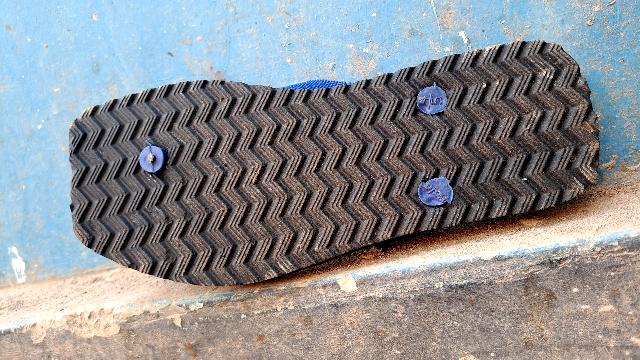sandal: (51, 27, 608, 284)
